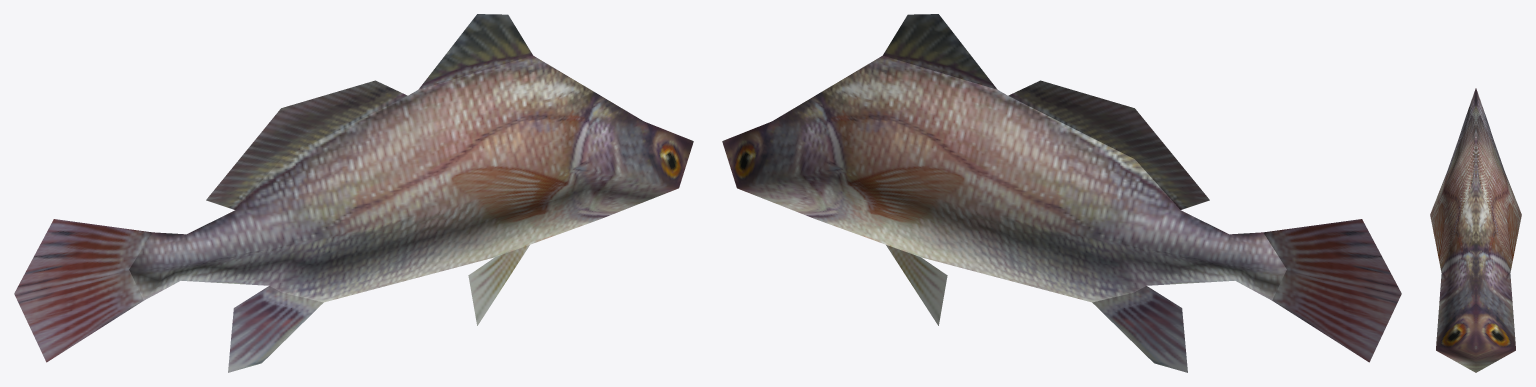
The model's file is freshwater-drum.obj.
3 views of the same model, side by side, from view 1: azimuth 30°, elevation 25°; view 2: azimuth 150°, elevation 25°; view 3: azimuth 270°, elevation 25° (orthographic). The views are drawn at different scales.
Size of the model in its own units: 3.01 by 1.32 by 0.4107.
1 material, 1 textured.
